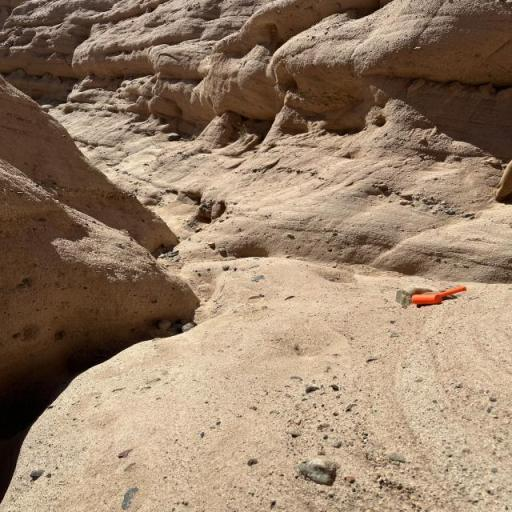mallet: (412, 286, 467, 305)
